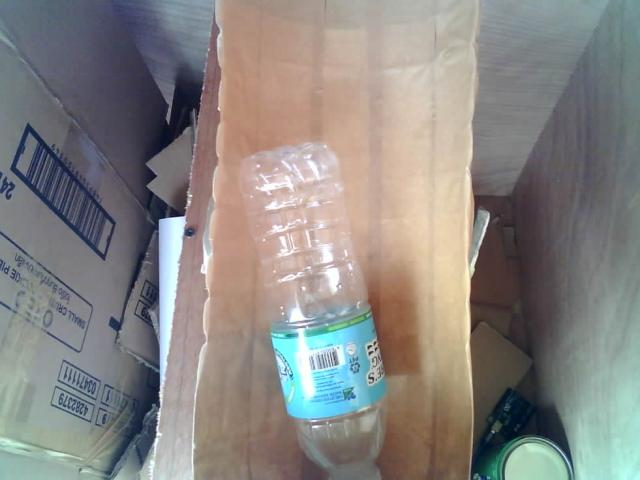small_bottle: (224, 139, 404, 480)
